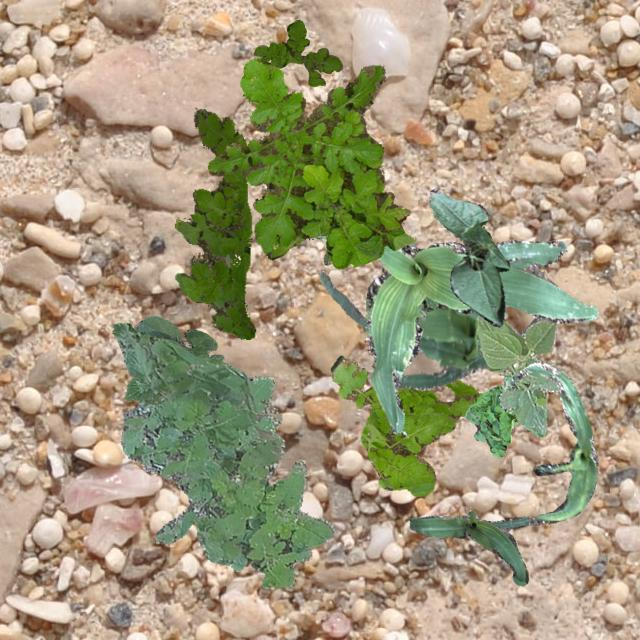crop: (363, 238, 598, 434), (318, 272, 540, 389), (502, 362, 596, 524), (428, 188, 508, 326), (474, 314, 560, 436), (408, 508, 528, 584), (124, 314, 222, 400), (312, 230, 328, 240)
weed: (112, 322, 334, 588), (208, 58, 414, 268), (329, 354, 482, 496), (173, 108, 254, 338), (252, 18, 342, 86), (464, 374, 518, 456), (322, 250, 330, 264)
